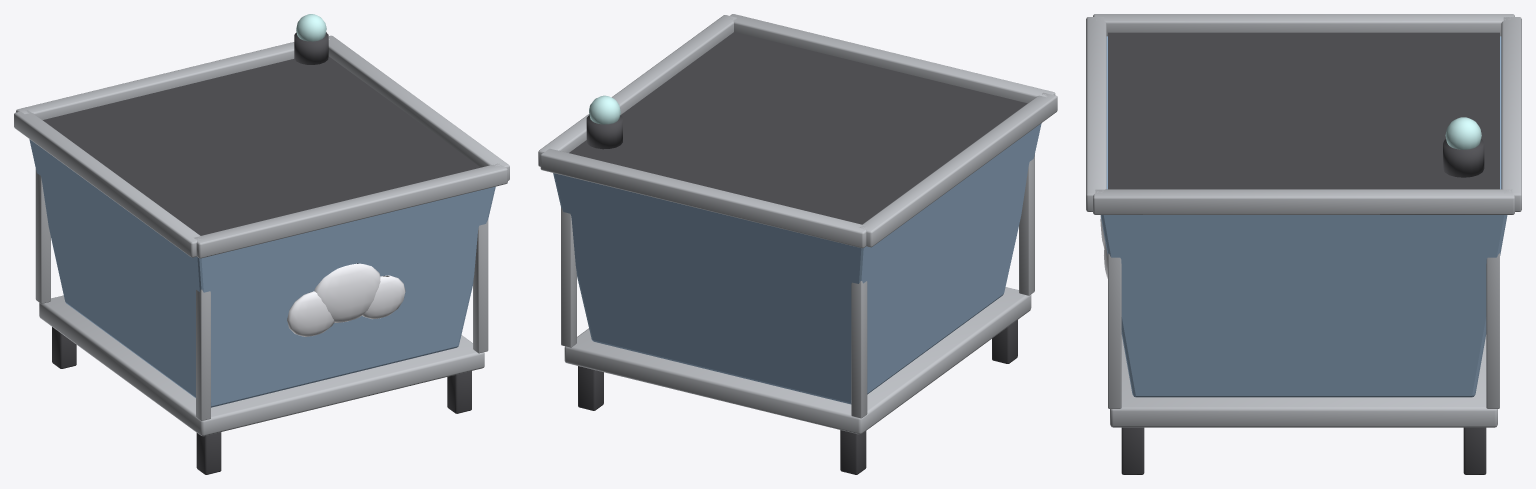
Rendered from SkyBin.glb.
3 views of the same model, side by side, from view 1: azimuth 30°, elevation 25°; view 2: azimuth 150°, elevation 25°; view 3: azimuth 270°, elevation 25° (orthographic). The views are drawn at different scales.
Visible parts, largest first — view 1: SkyBin; view 2: SkyBin; view 3: SkyBin.
Part boxes in pixels (x1=…): SkyBin: x1=14, y1=14, x2=509, y2=474; SkyBin: x1=538, y1=14, x2=1057, y2=474; SkyBin: x1=1086, y1=14, x2=1521, y2=474.
Bounding box in the file's own units: 3.82 × 3.36 × 3.82.
1 material, 1 textured.
